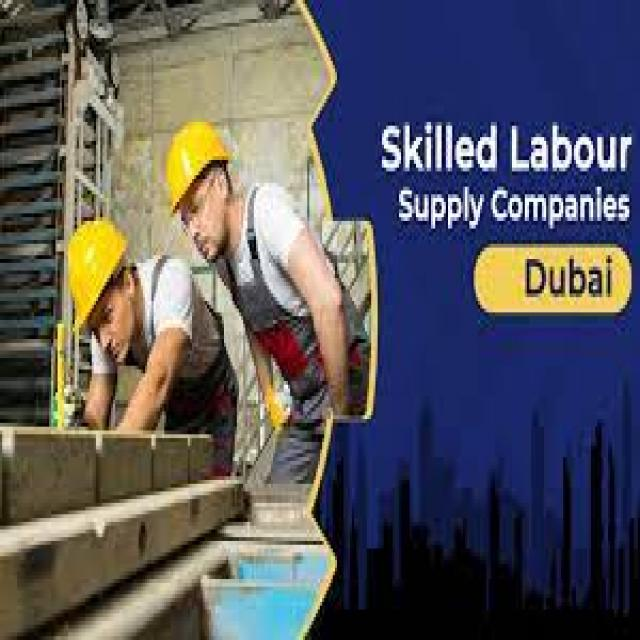Safety-Helmet: (49, 202, 139, 347), (156, 106, 232, 225)
